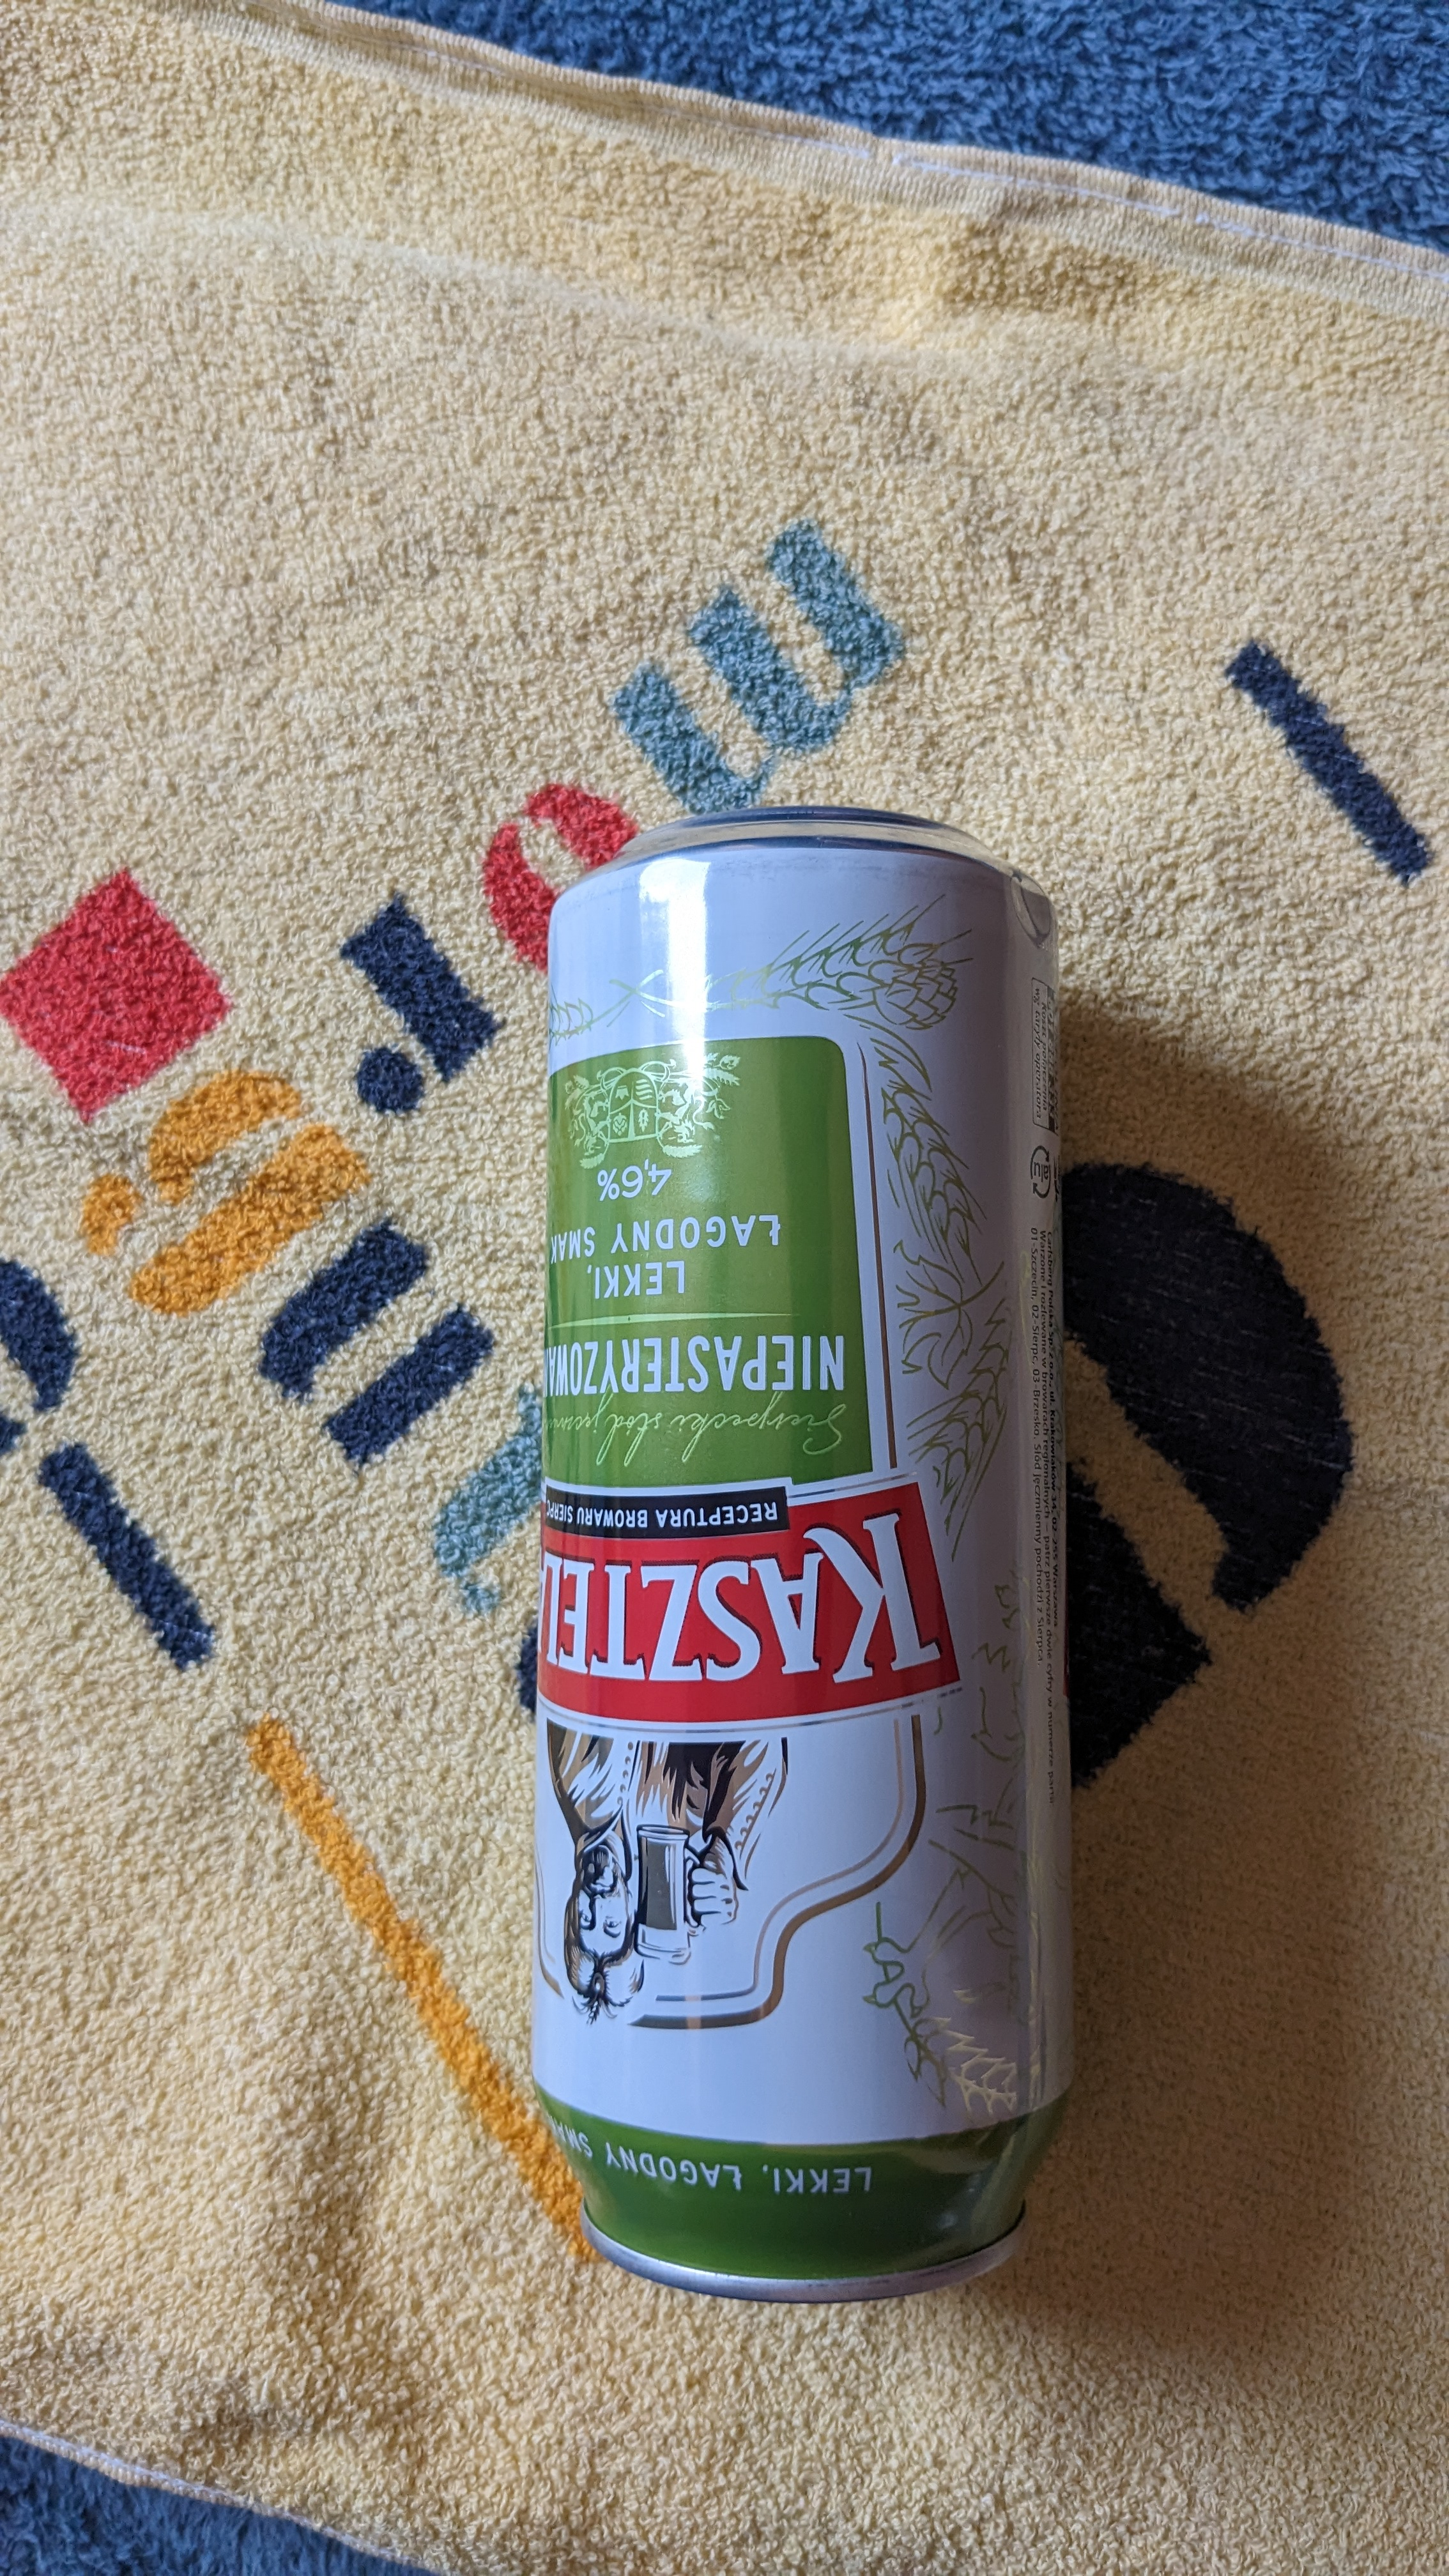kasztelan: (527, 782, 1104, 2321)
